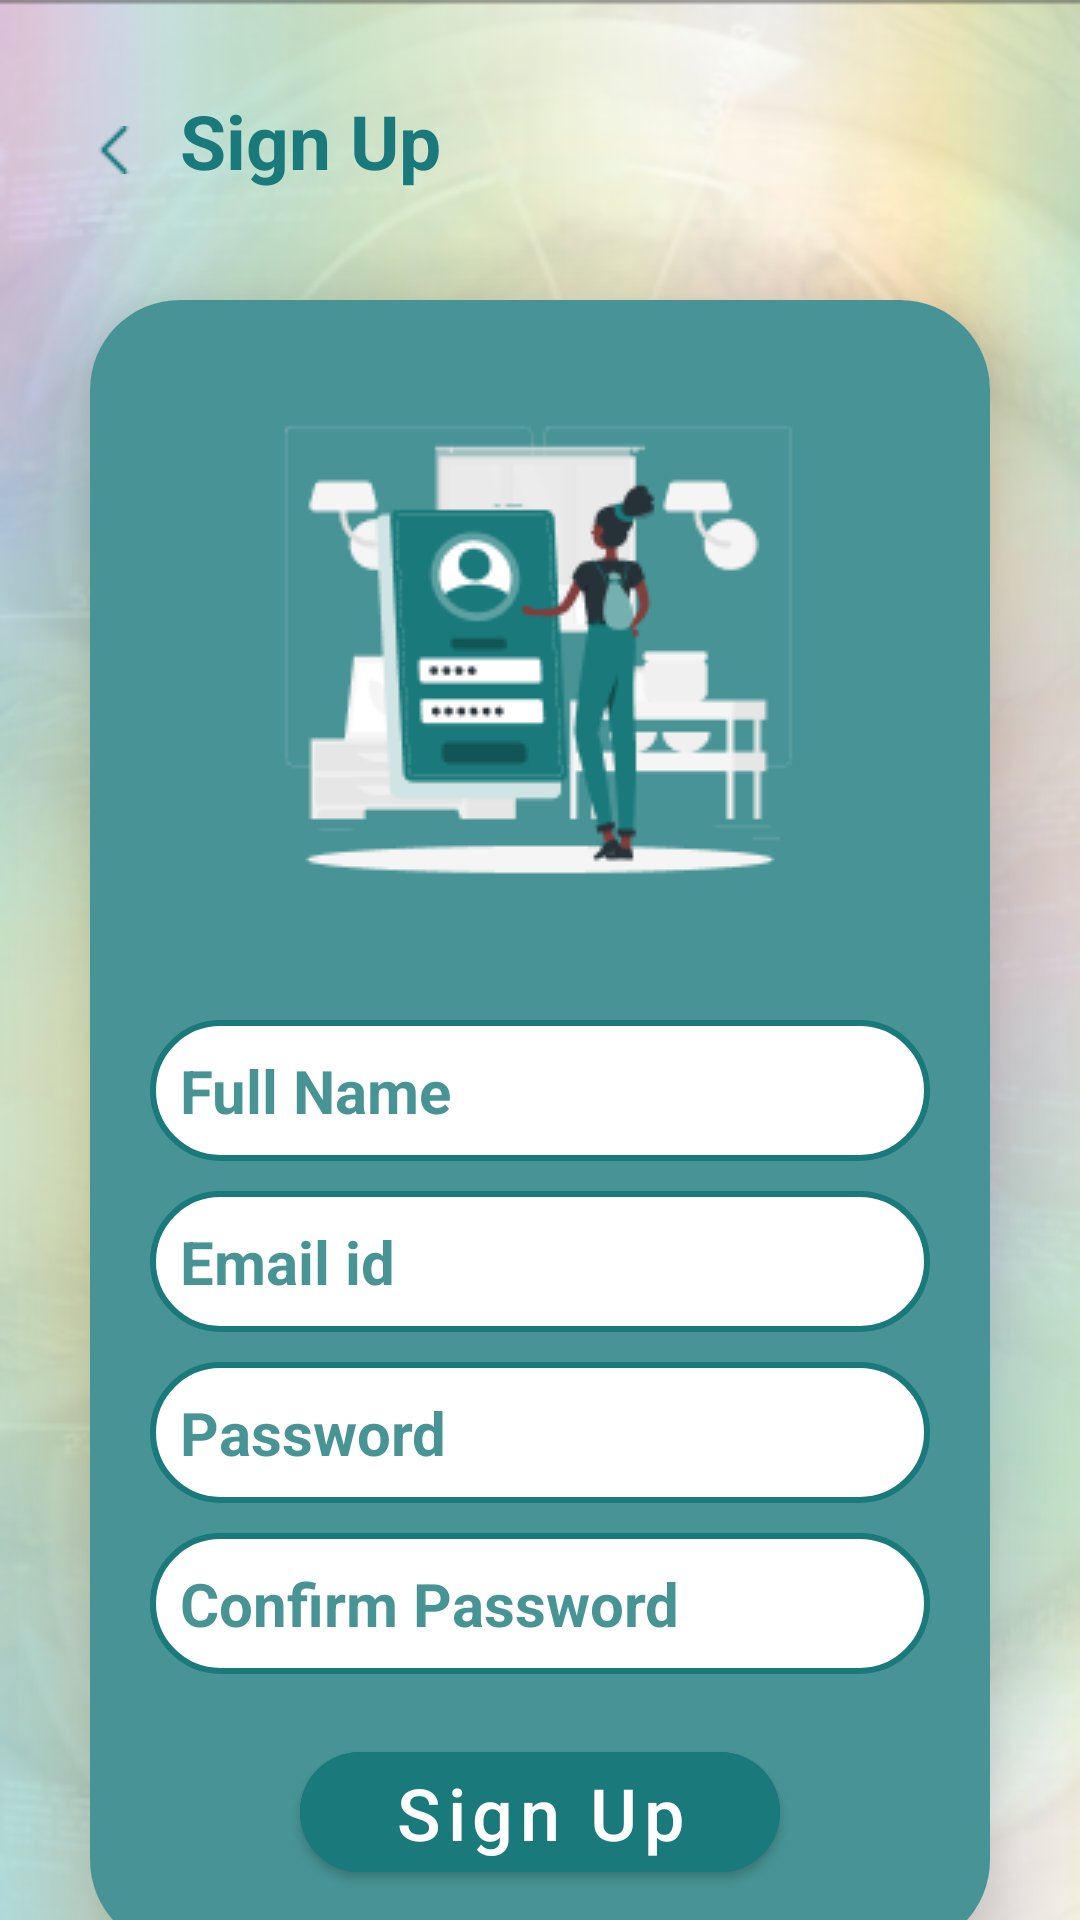

Locate icon controls on the screen. Image size 1080w x 1920h, boxes as (x1, y1, x2, y2).
backblueicon: (100, 126, 129, 174)
